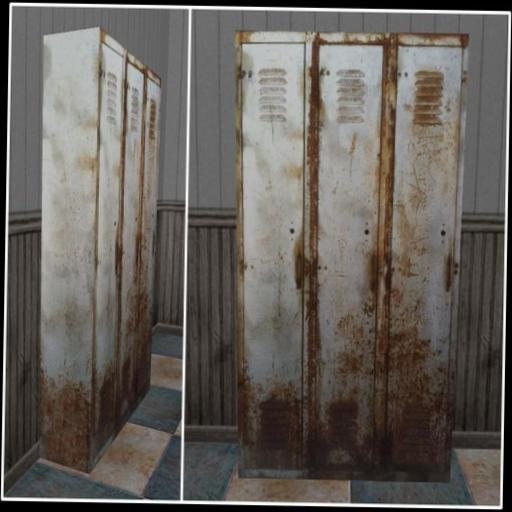segmentation: (28, 26, 162, 473)
